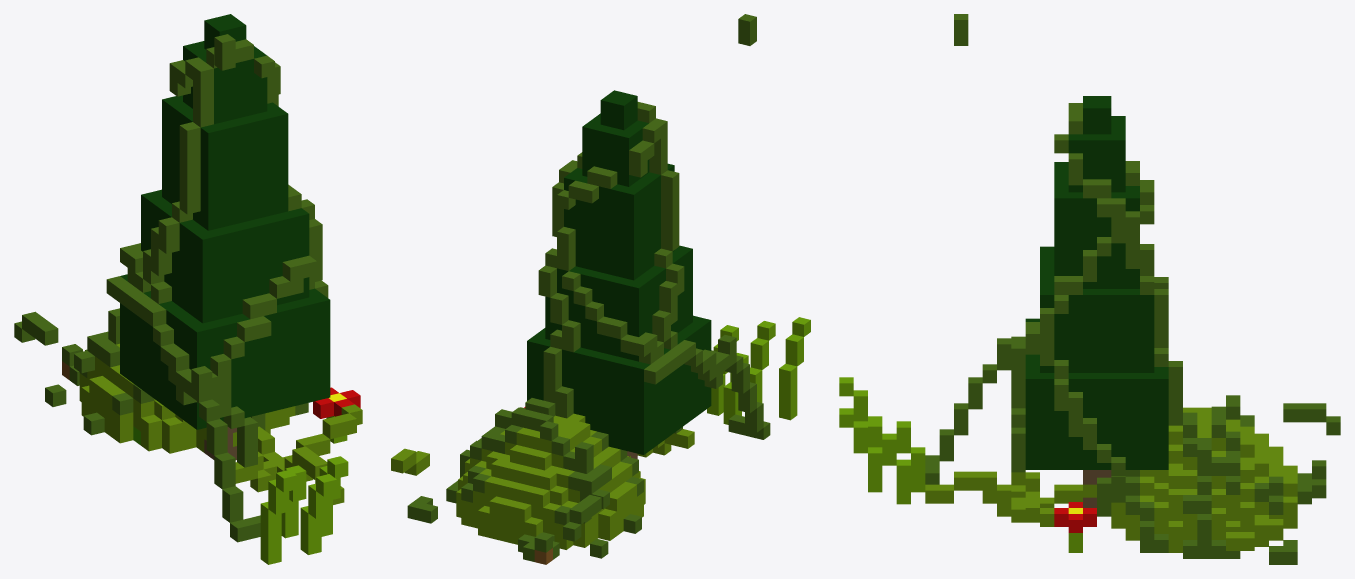
File: Tiles 2 morceau 1.obj
3 renders of one model, left to right at view 1: azimuth 30°, elevation 25°; view 2: azimuth 150°, elevation 25°; view 3: azimuth 270°, elevation 25°, orthographic. The views are drawn at different scales.
Parts seen in each view (by area): view 1: Tiles 2 morceau 1; view 2: Tiles 2 morceau 1; view 3: Tiles 2 morceau 1.
Boxes of the visible parts, left/top/right/bottom form: Tiles 2 morceau 1: left=14, top=14, right=362, bottom=564; Tiles 2 morceau 1: left=391, top=14, right=810, bottom=564; Tiles 2 morceau 1: left=839, top=14, right=1340, bottom=564.
Size of the model in its own units: 18 by 35 by 35.
Materials: 1 (1 with a texture image).
